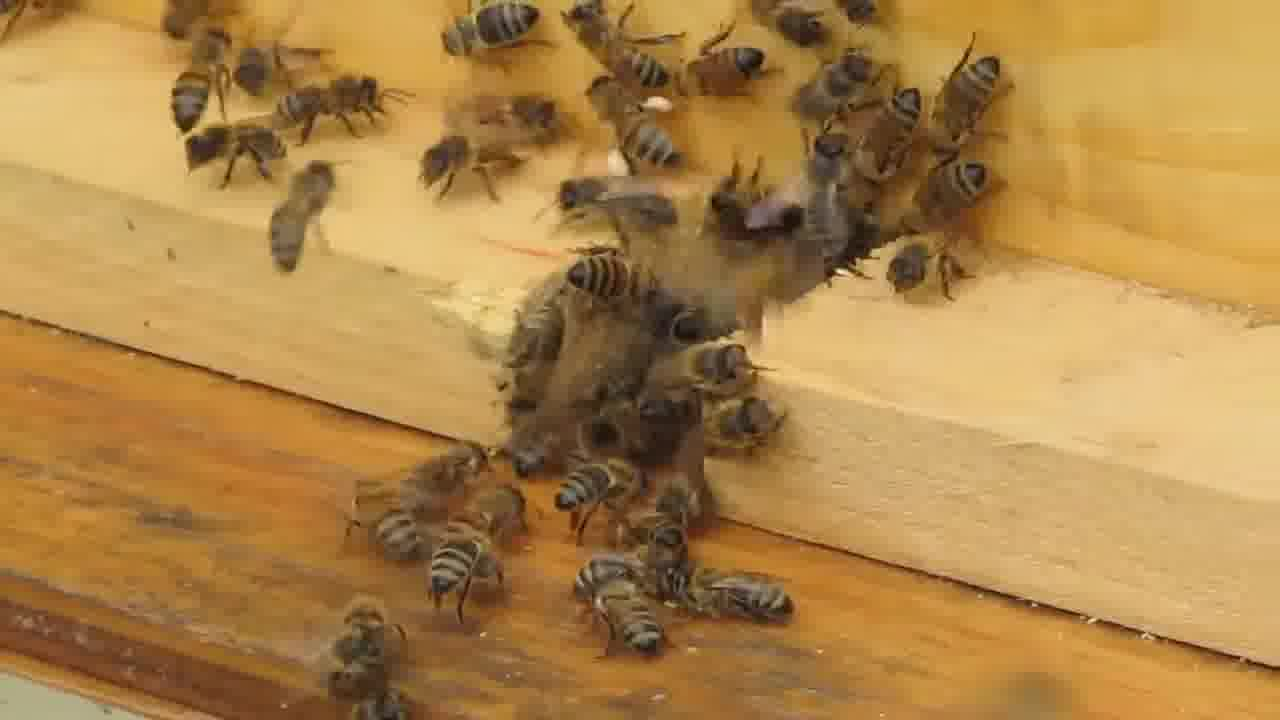pollen: (587, 76, 698, 196)
